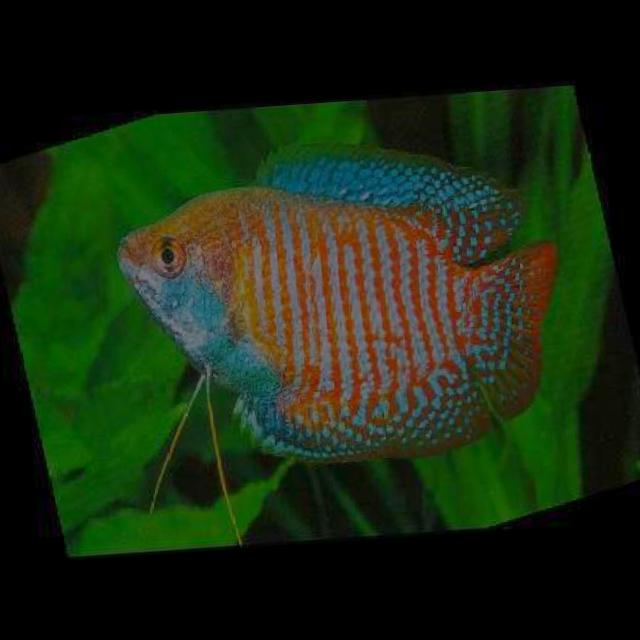Gourami: (108, 123, 576, 477)
